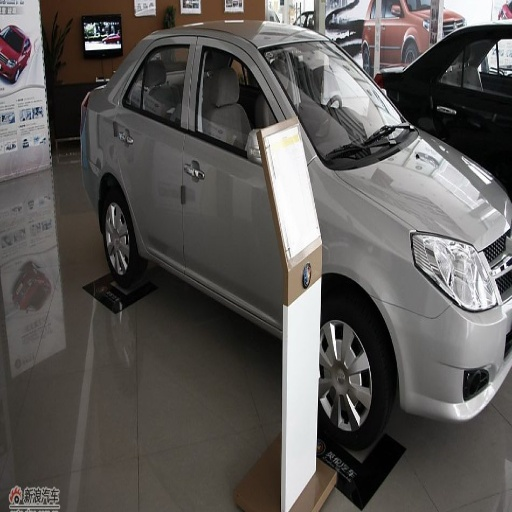front_bumper: (380, 268, 511, 419)
front_right_door: (183, 37, 294, 321)
front_right_light: (410, 232, 498, 312)
